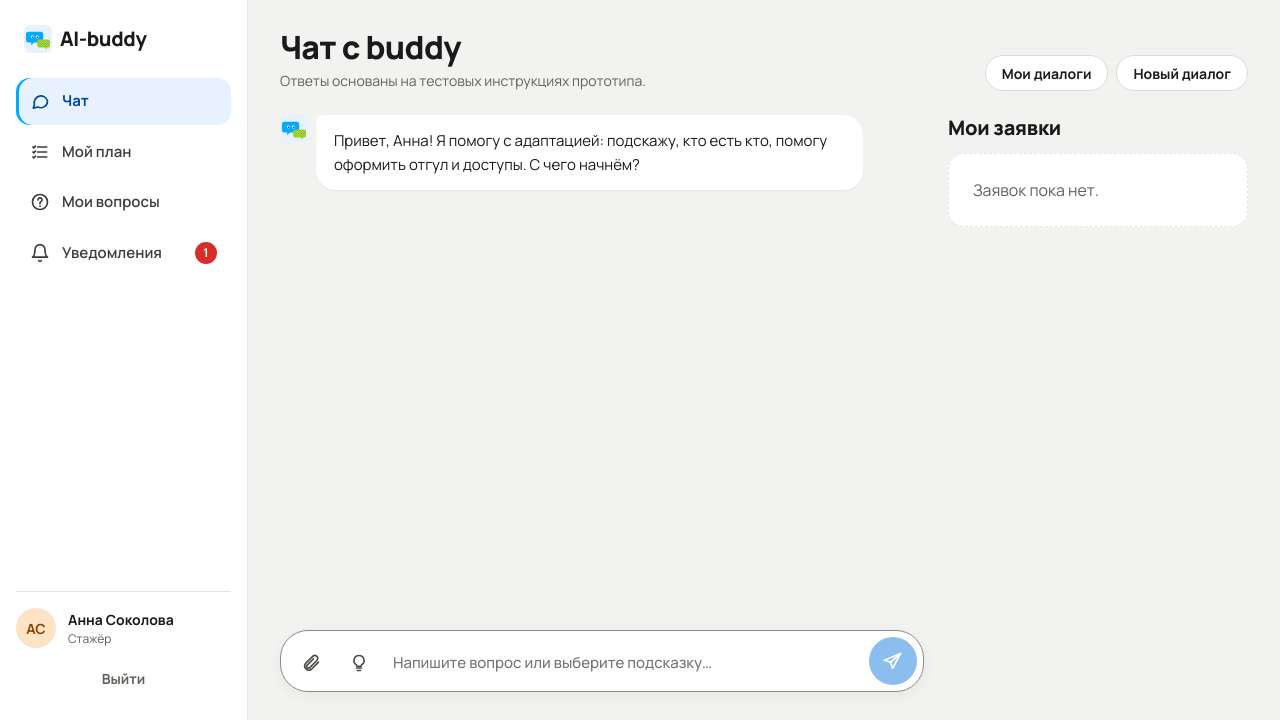
scripted answers › S4_R66: access_request confirm shows a result card and the request in "Мои заявки"; next ask moves on
Type "Какие доступы мне нужны?" into the dropdown named "Сообщение" at (625, 664), box [385,642,865,685]
Then press Enter
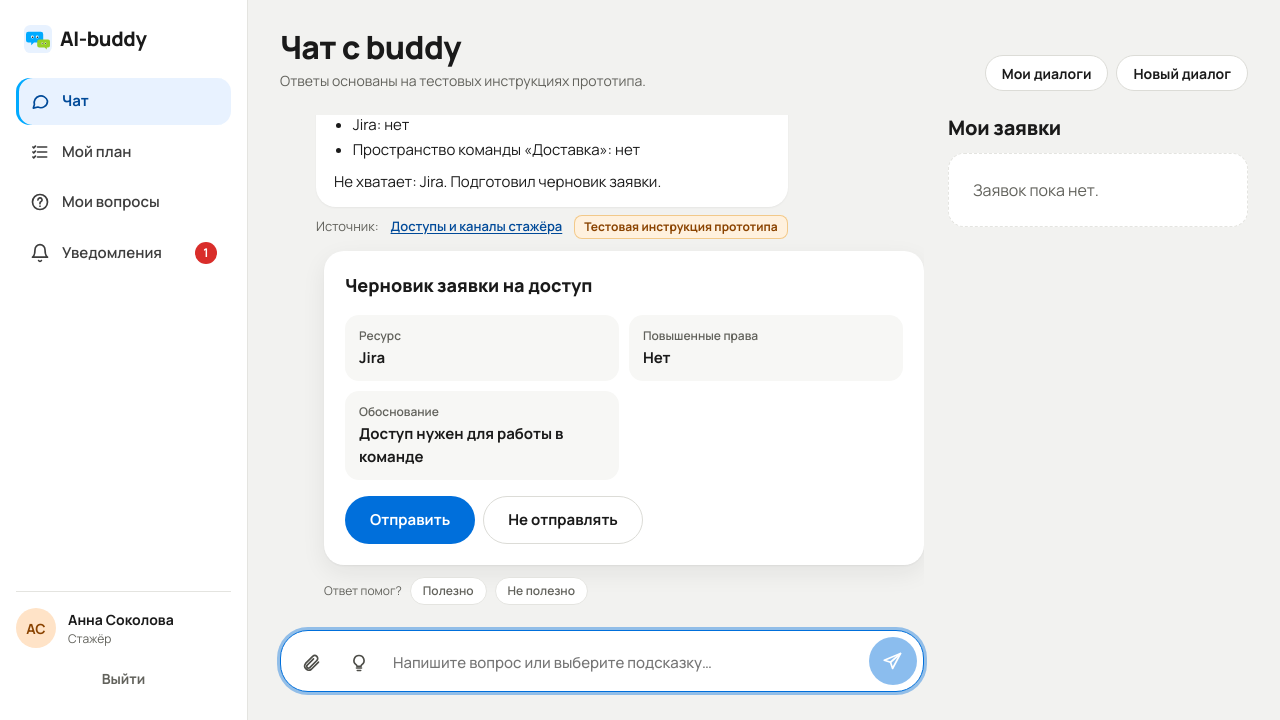
Click the button "Отправить" at (410, 520), box [345,496,475,544]
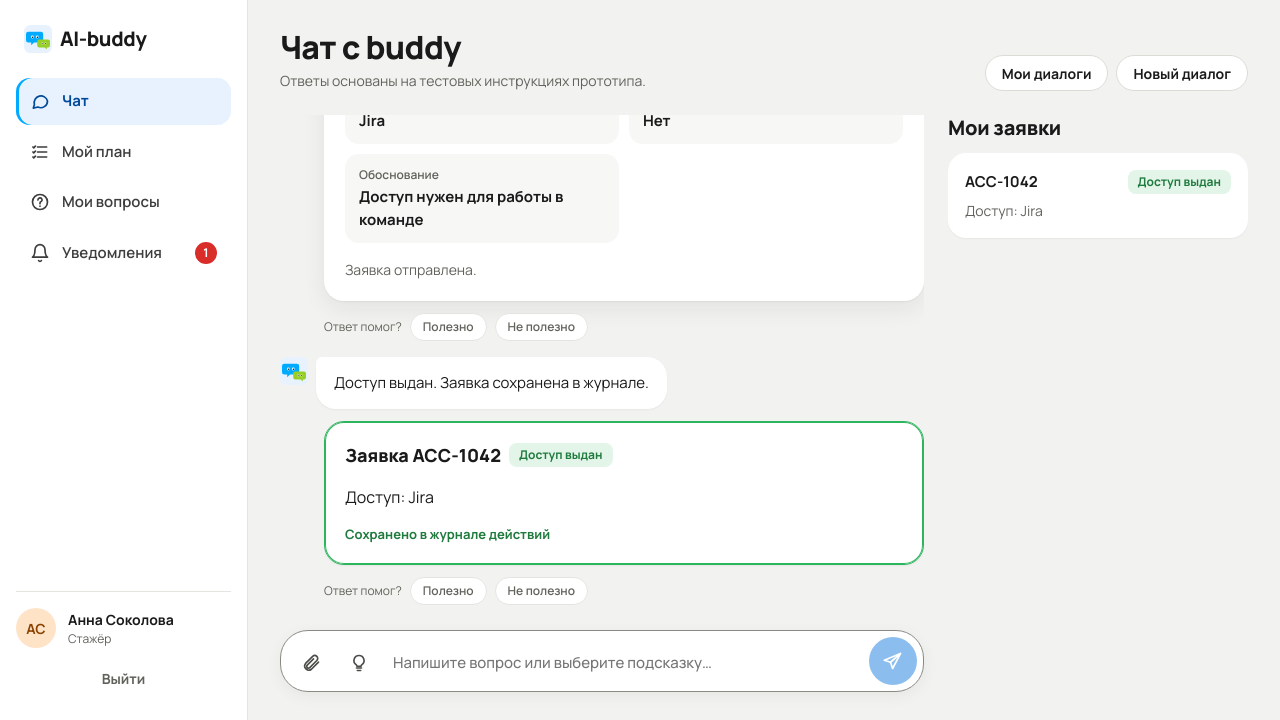
Check: the heading "Заявка ACC-1042 Доступ выдан" is shown, box [345,443,612,467]
Check: the text "Доступ выдан" below "Заявка отправлена." is shown, box [519,446,602,463]
Check: the text "ACC-1042" is shown, box [965,171,1038,194]
Type "Какие доступы мне нужны?" into the dropdown named "Сообщение" at (625, 664), box [385,642,865,685]
Then press Enter
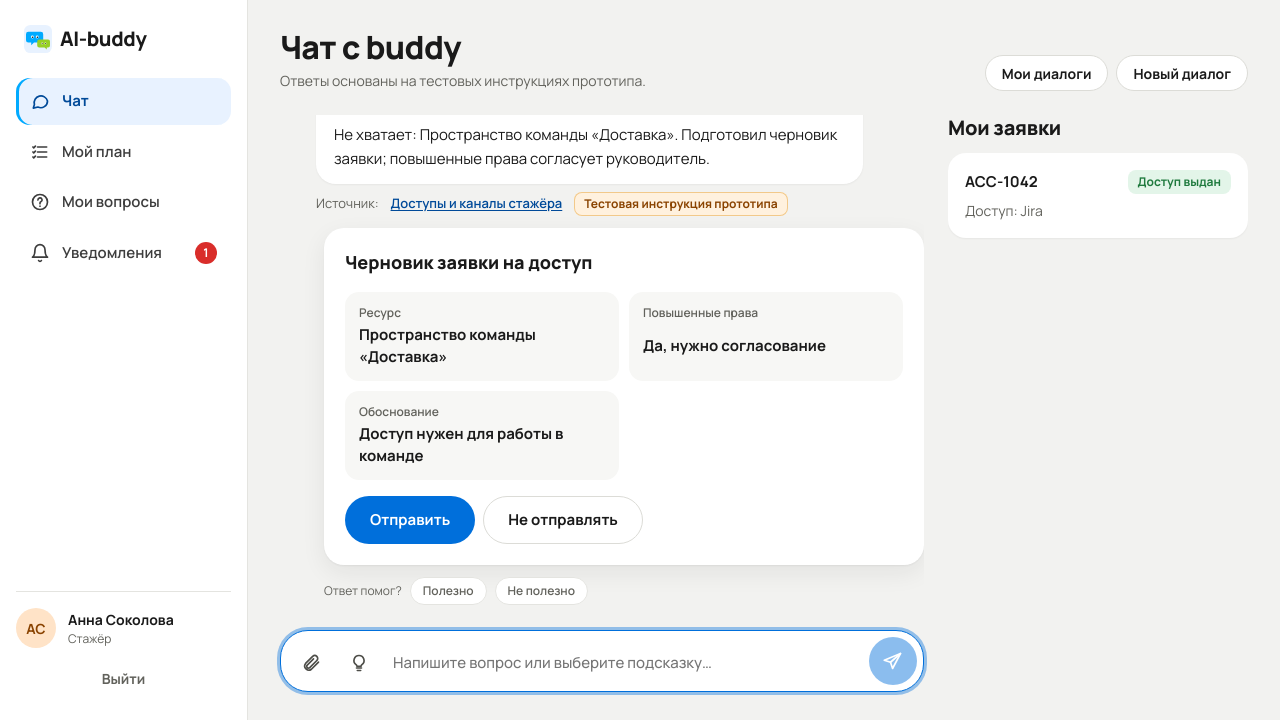
Check: the text "Да, нужно согласование" is shown, box [643,335,826,356]
Click the button "Отправить" at (410, 520), box [345,496,475,544]
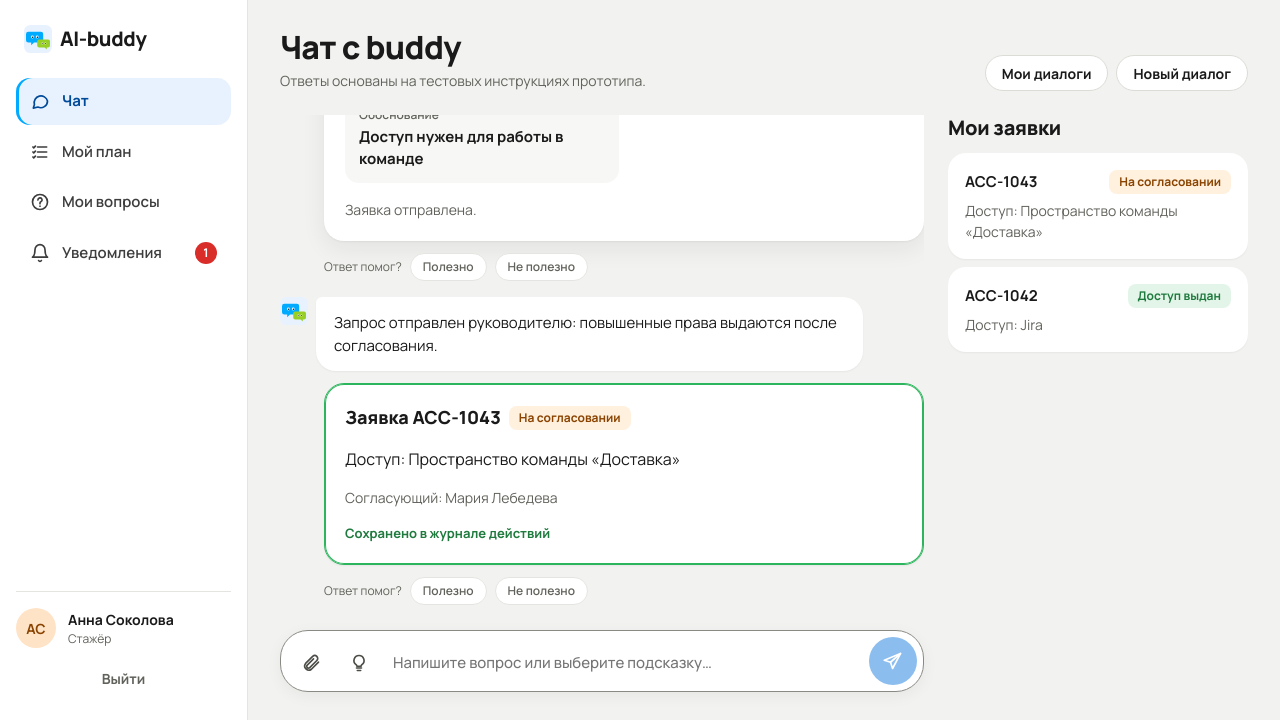
Check: the text "На согласовании" below "Заявка отправлена." is shown, box [519,409,621,426]
Type "Какие доступы мне нужны?" into the dropdown named "Сообщение" at (625, 664), box [385,642,865,685]
Then press Enter
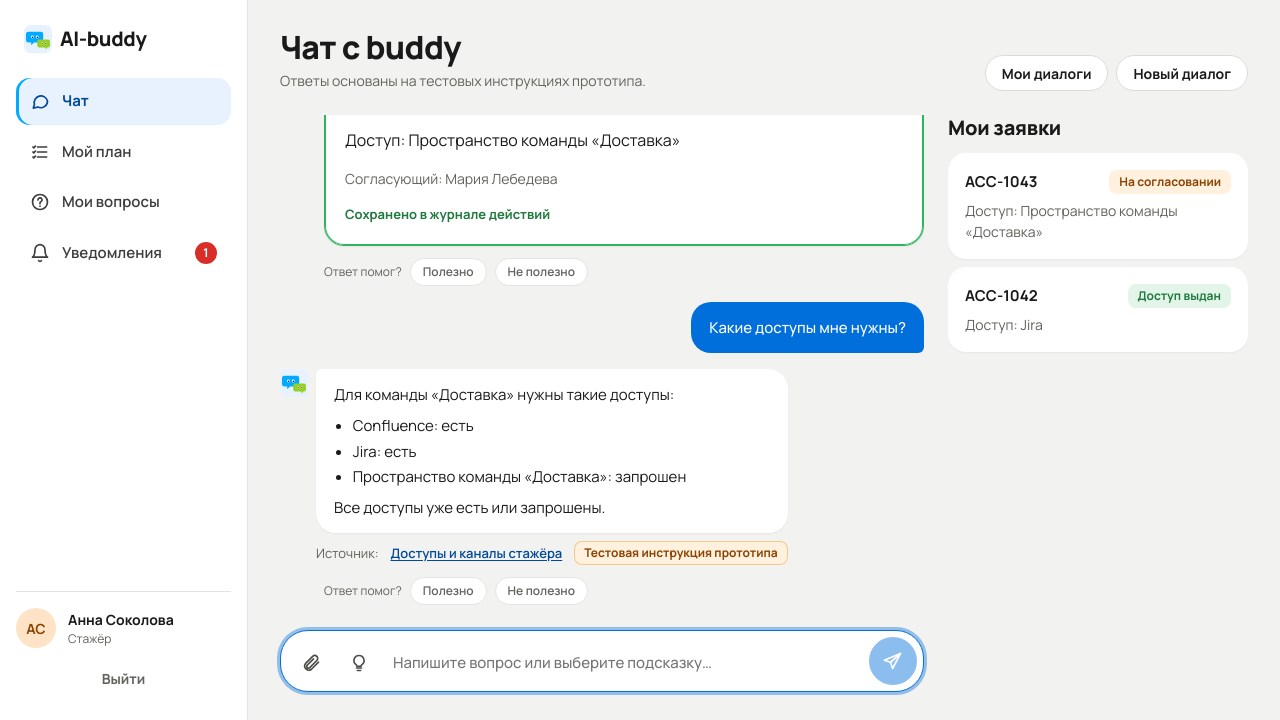
Check: the list item "Пространство команды «Доставка»: запрошен" is shown, box [353,466,686,487]
Check: the text "Все доступы уже есть или запрошены." is shown, box [334,497,605,518]
